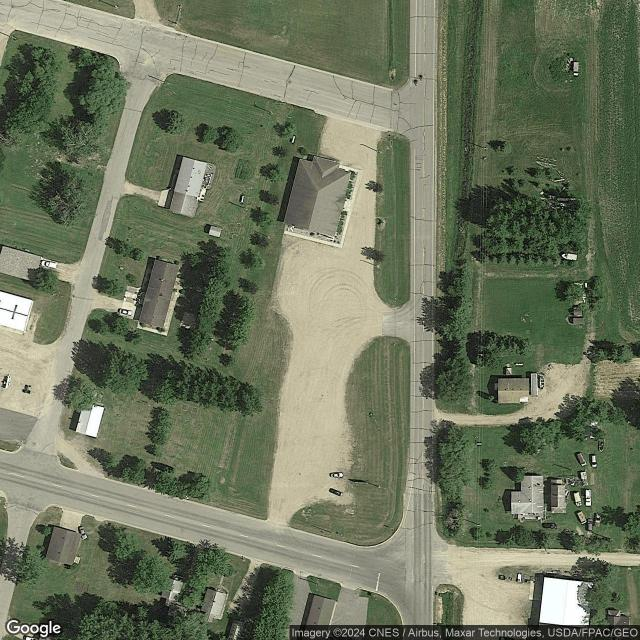Propane: (291, 134, 296, 145), (240, 195, 244, 203), (515, 363, 524, 366), (476, 443, 482, 446)
